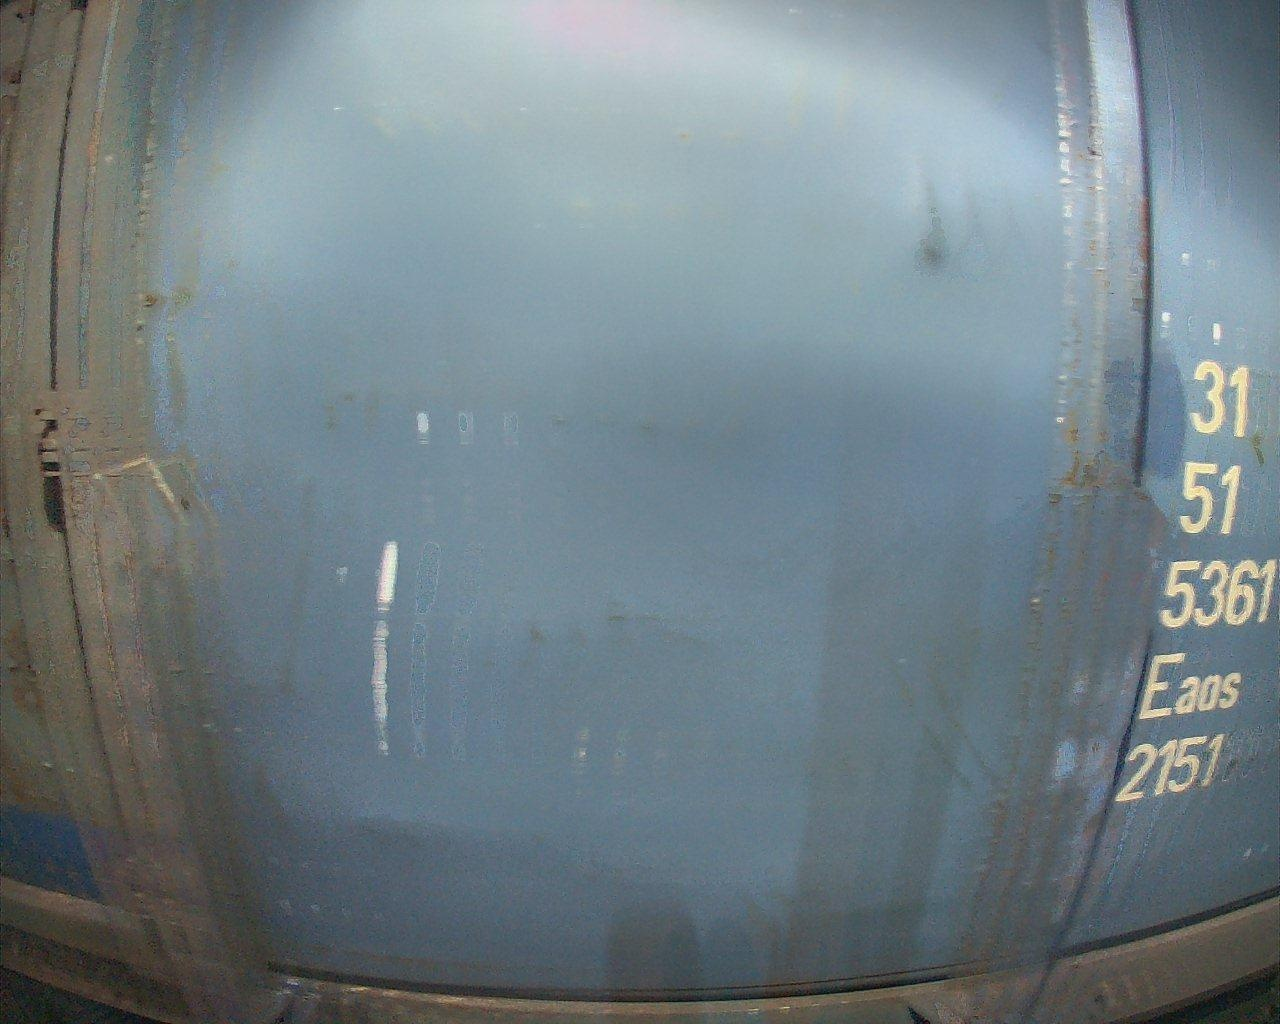UIC: (1111, 359, 1280, 806)
